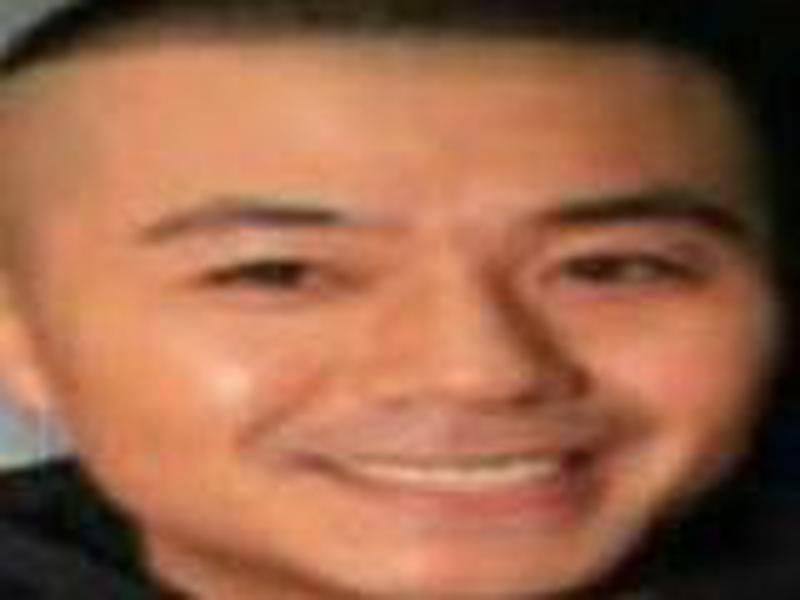without_mask: (23, 31, 759, 584)
